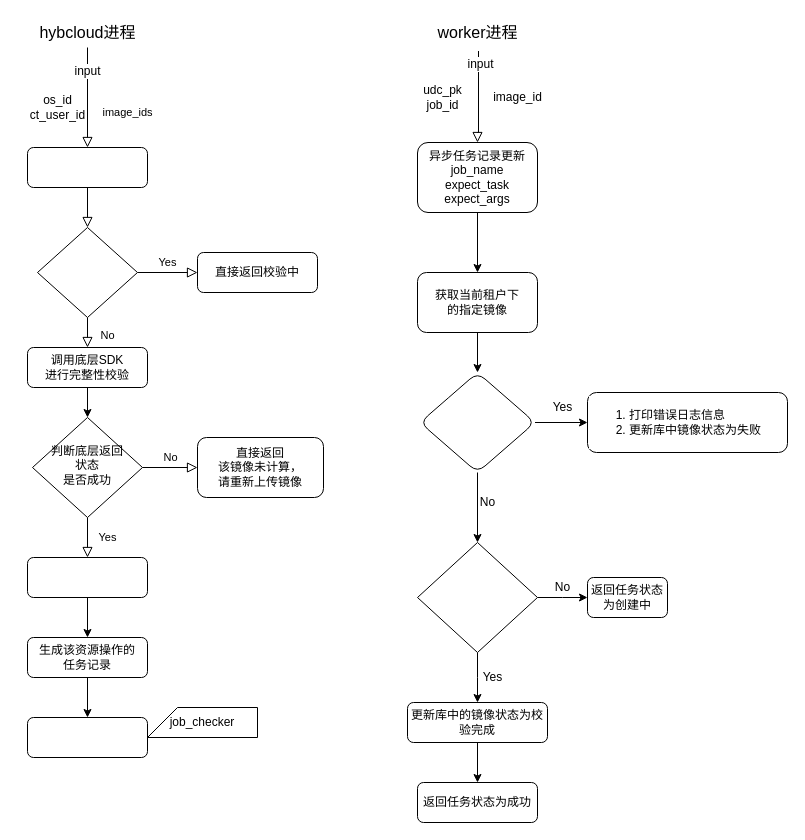
Image size: 805x840. Some labels were removed from this diagram. Each missing label, with the centre of its shape:
从库中获取镜像: point 87,167
修改库中该镜像状态为校验中: point 87,577
判断底层返回结果 是否校验完成: point 477,597
判断镜像 是否正在校验中: point 87,272
异步轮询 底层校验状态: point 87,737
调用底层是否报错: point 477,422
